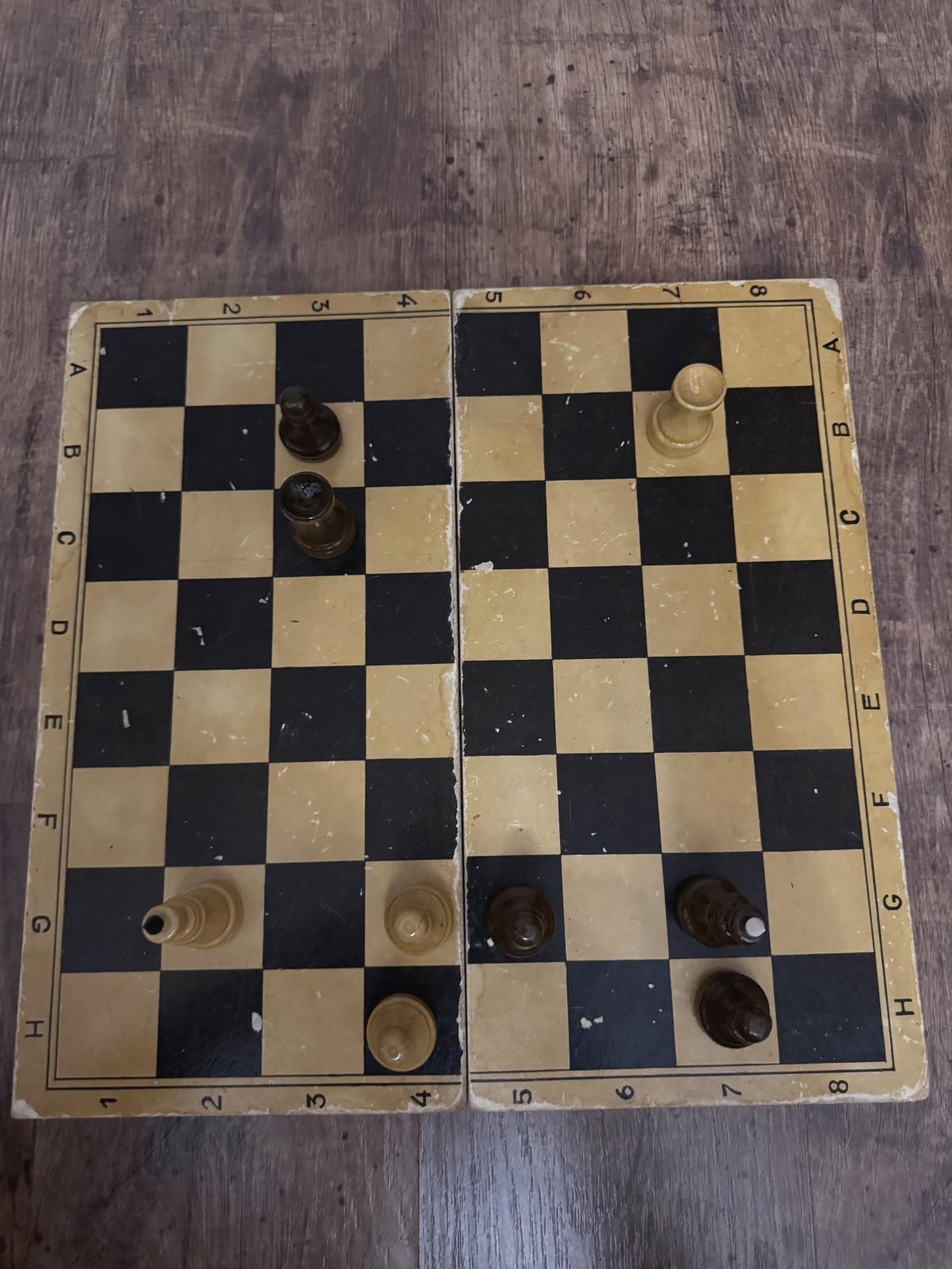Chess-Board: (55, 305, 885, 1079)
